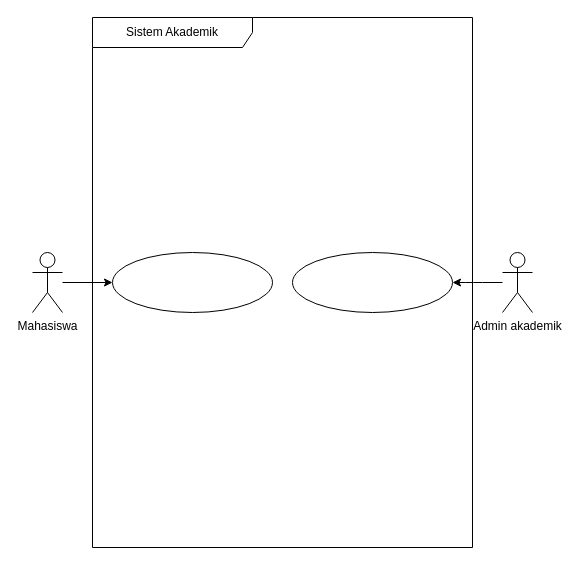
Some shapes in this 579 by 565 pixel diagram are drawn without their labels. Each missing label, with the centre of its shape:
"Kelola jadwal kulaih" belongs at pixel 372 282.
"Lihat jadwal kuliah" belongs at pixel 192 282.
